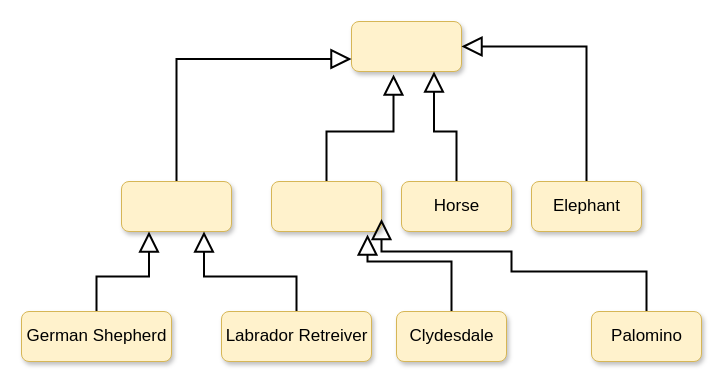
Image size: 725x386. Some labels were removed from this diagram. The shapes that lost their labels are listed below. From the top down, each one's centre as x and y in pixels, then its label:
At point (407, 47): "Mammal".
At point (177, 207): "Cat".
At point (327, 207): "Dog".
